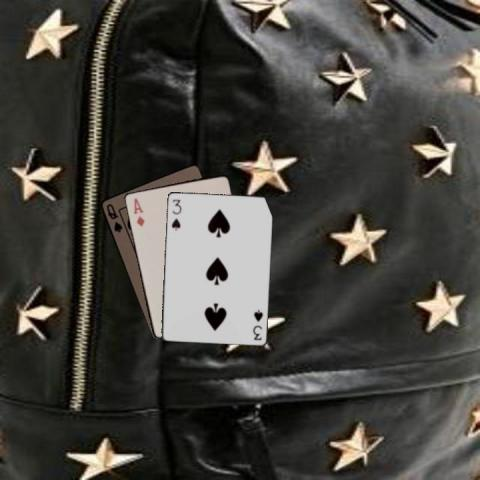3s: (168, 196, 182, 231), (250, 306, 264, 341)
Ad: (131, 195, 145, 228)
Qs: (103, 201, 124, 234)
